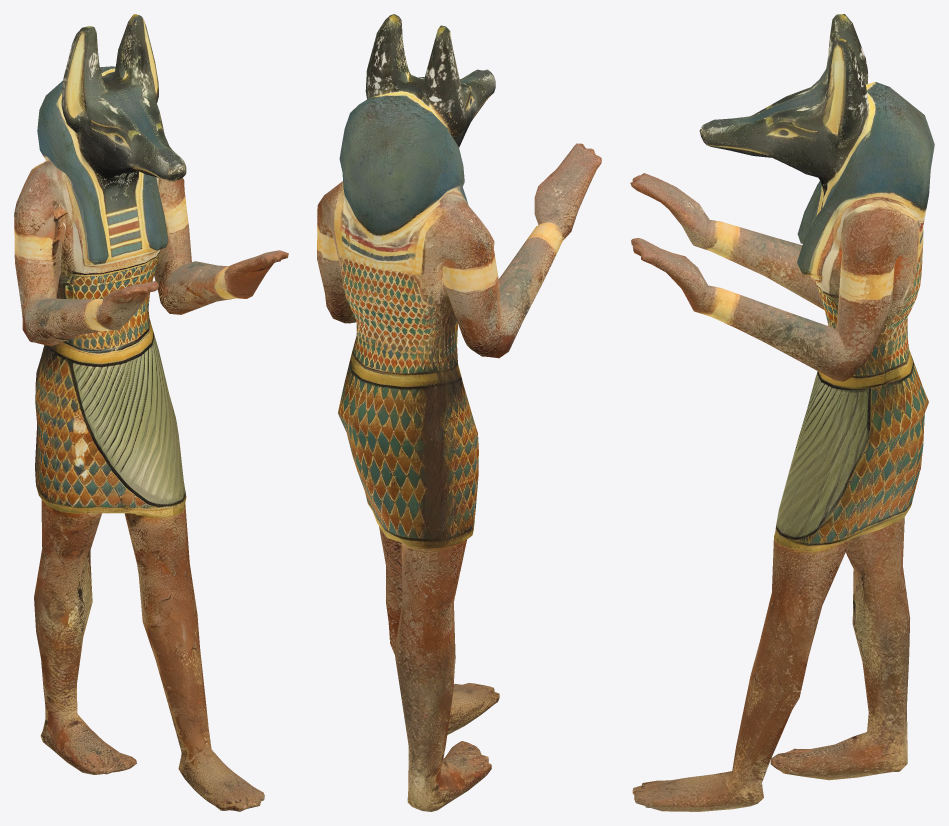
Rendered from statue_2.glb.
3 renders of one model, left to right at view 1: azimuth 30°, elevation 25°; view 2: azimuth 150°, elevation 25°; view 3: azimuth 270°, elevation 25°, orthographic. The views are drawn at different scales.
Parts seen in each view (by area): view 1: mesh_node; view 2: mesh_node; view 3: mesh_node.
Part boxes in pixels (<box>): mesh_node: <box>14,14,288,811</box>; mesh_node: <box>317,14,601,811</box>; mesh_node: <box>630,14,934,811</box>.
Size of the model in its own units: 0.2558 by 0.9961 by 0.3623.
1 material, 1 textured.
